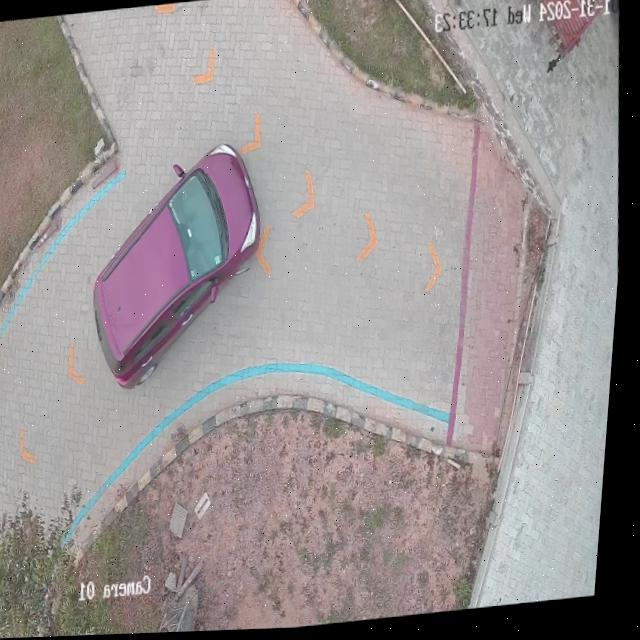car: (98, 145, 263, 389)
